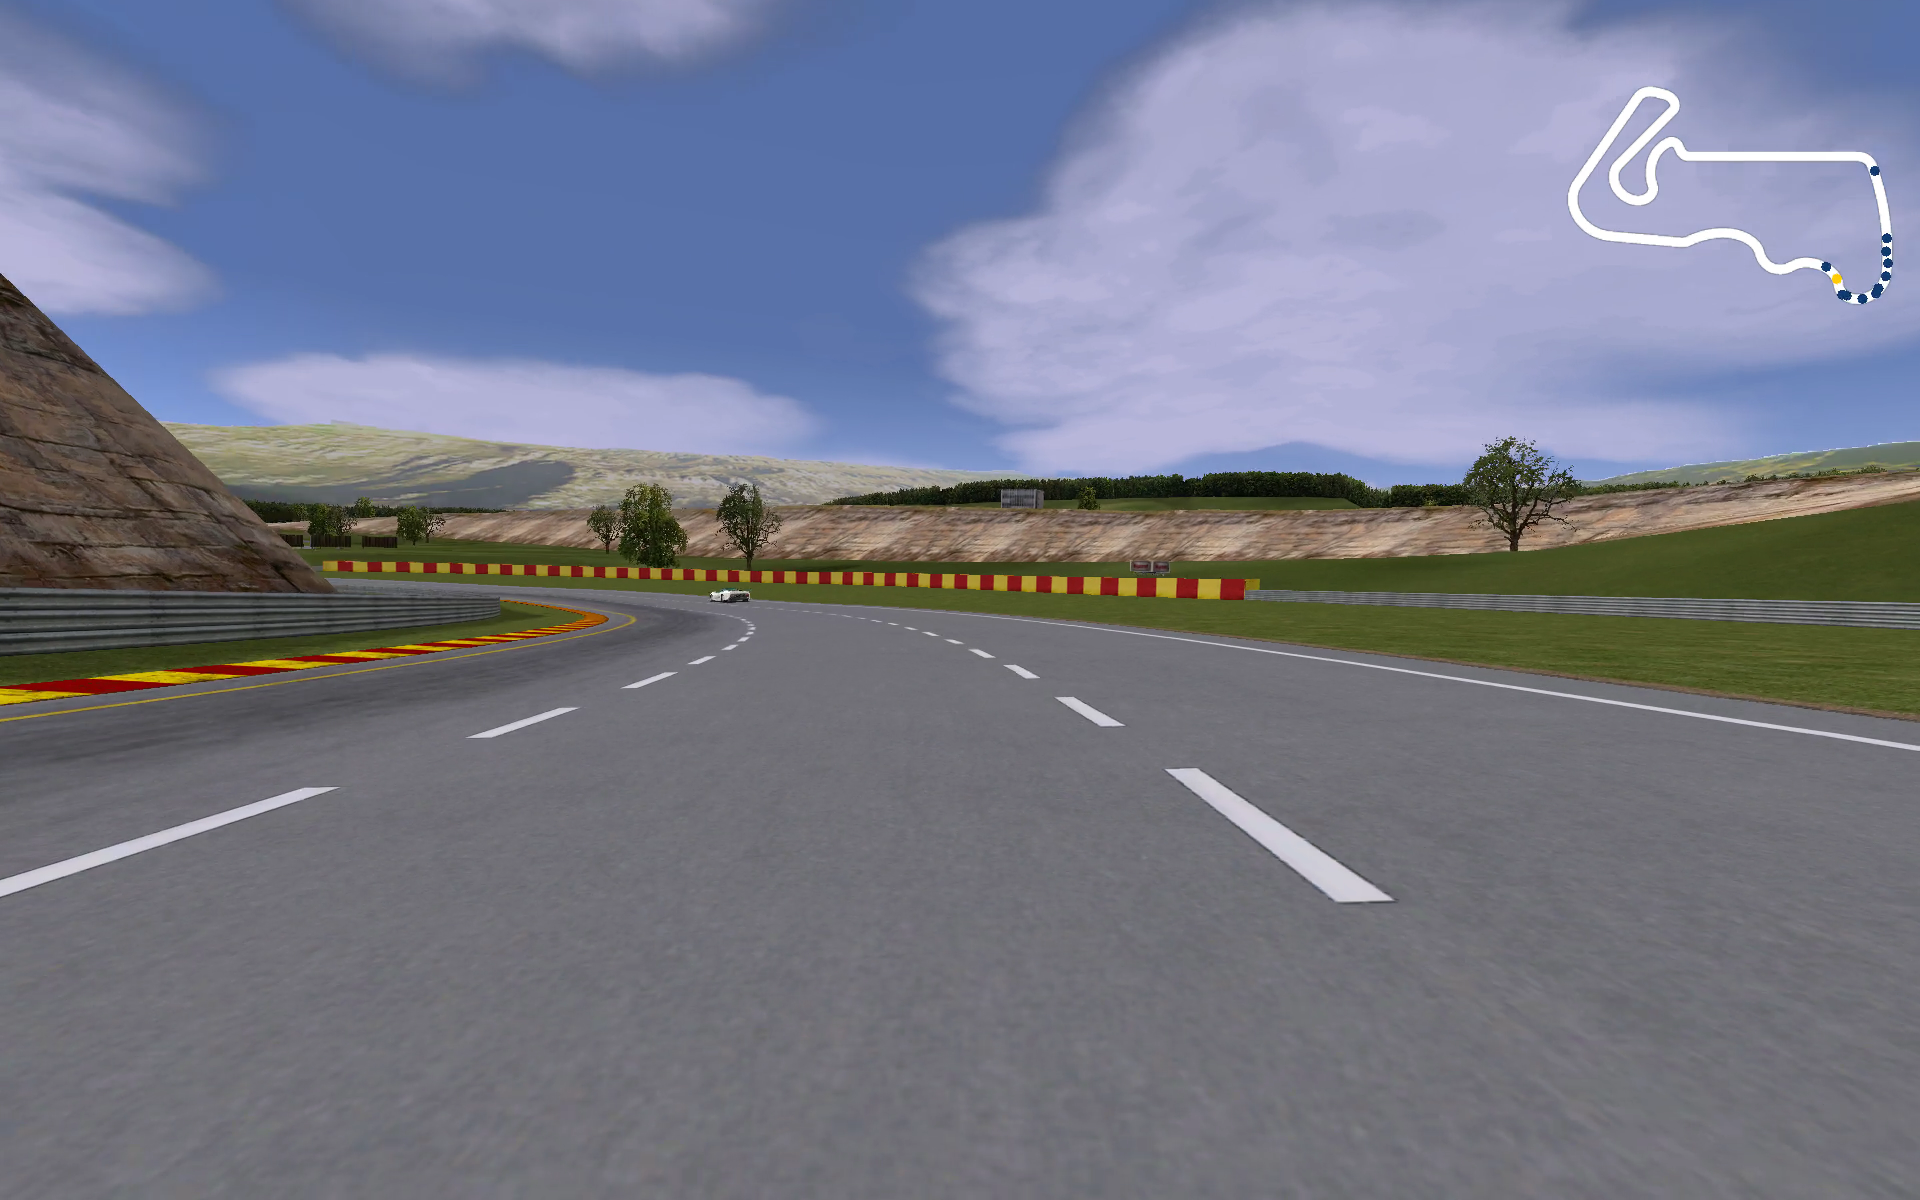car: (705, 583, 753, 608)
